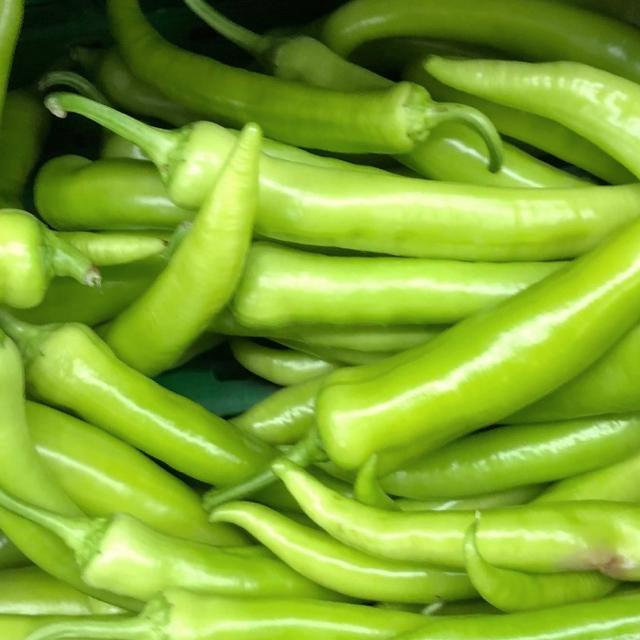chili_pepper: (210, 70, 640, 532), (97, 0, 522, 185), (267, 442, 640, 577), (0, 197, 105, 640)
